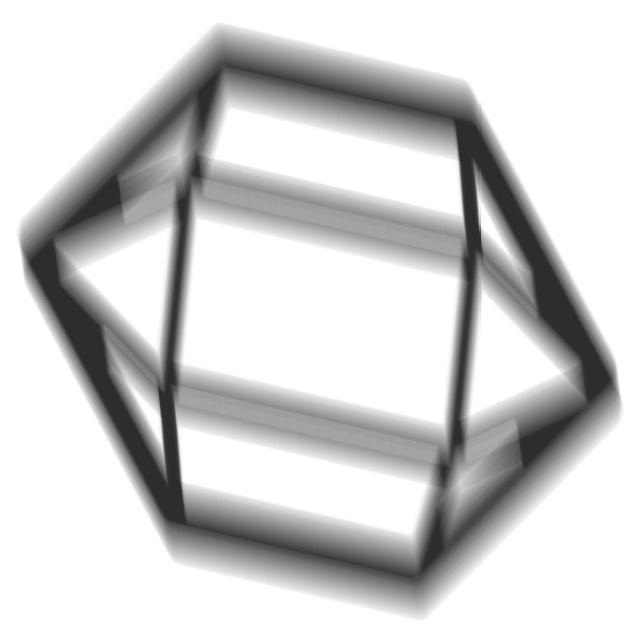crystal: (6, 16, 637, 632)
